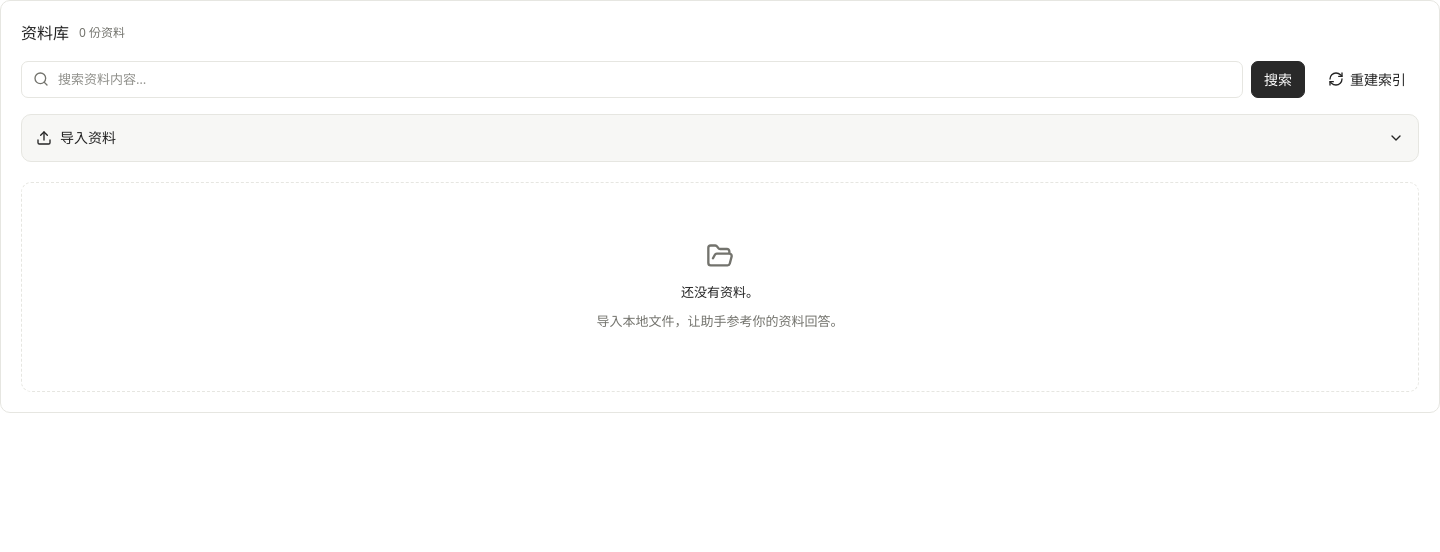
Test: MaterialsLibrary › imports from a path text field
expect the text "还没有资料。" is shown: met, box [681,282,759,303]
Click the heading "导入资料" at [88, 137], box [36,128,1404,147]
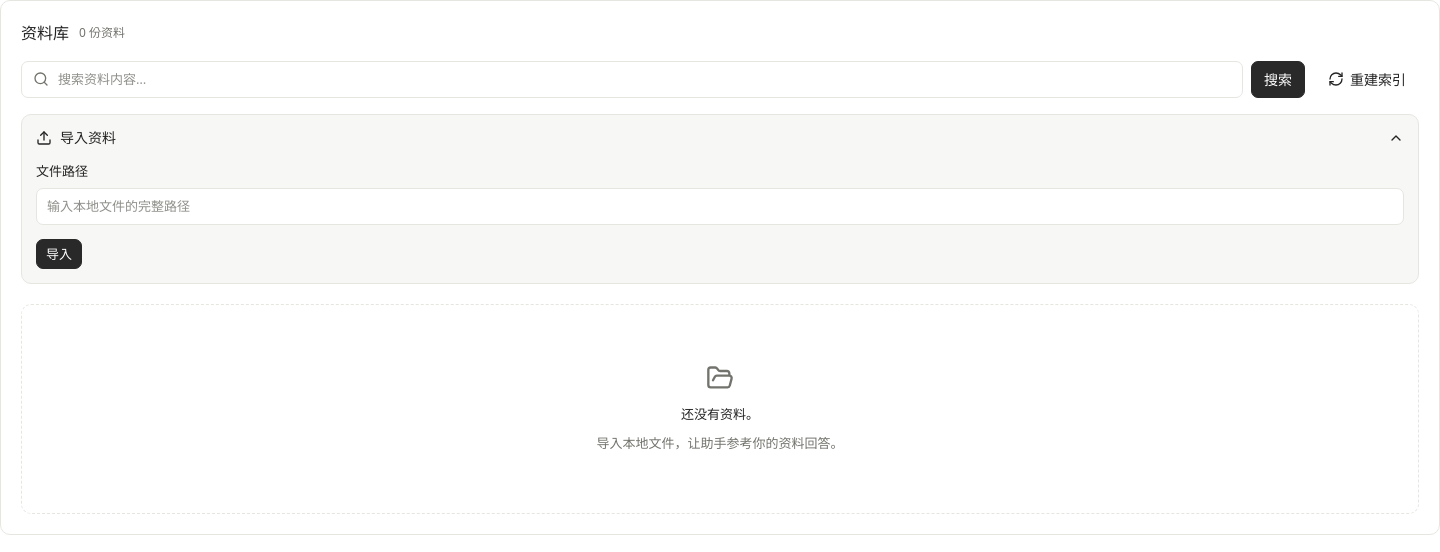
Type "E:/docs/resume.md" into the field labelled "文件路径" at [720, 206], box [36,188,1404,225]
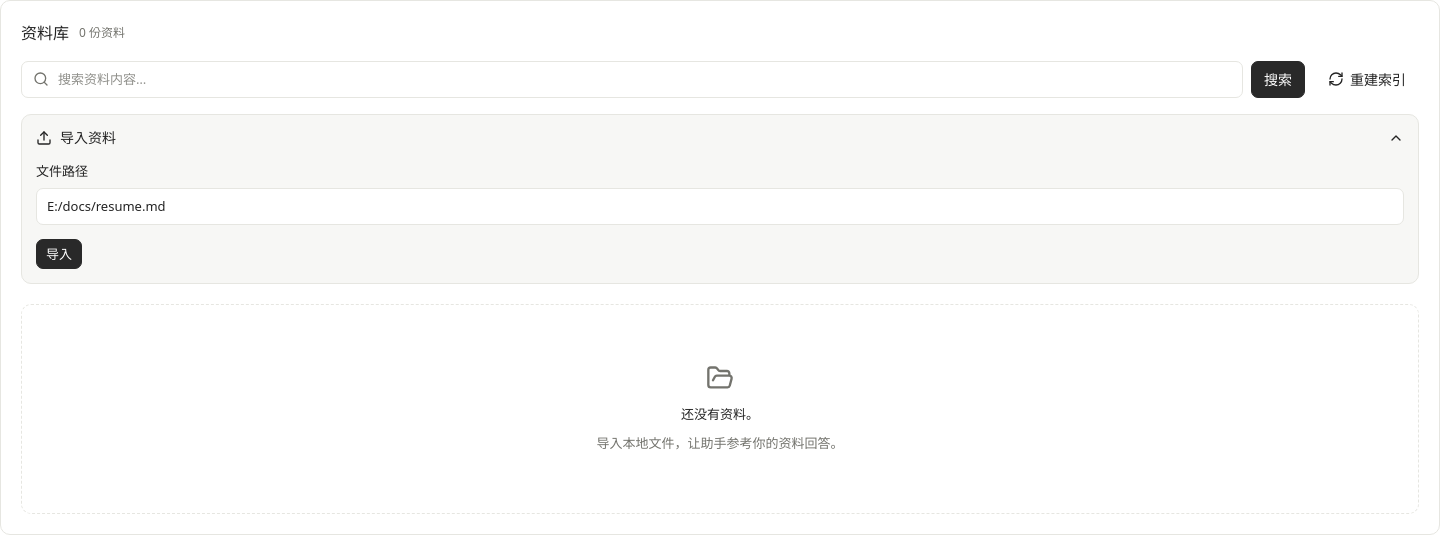
Click the button "导入" at [59, 254], box [36,239,82,269]
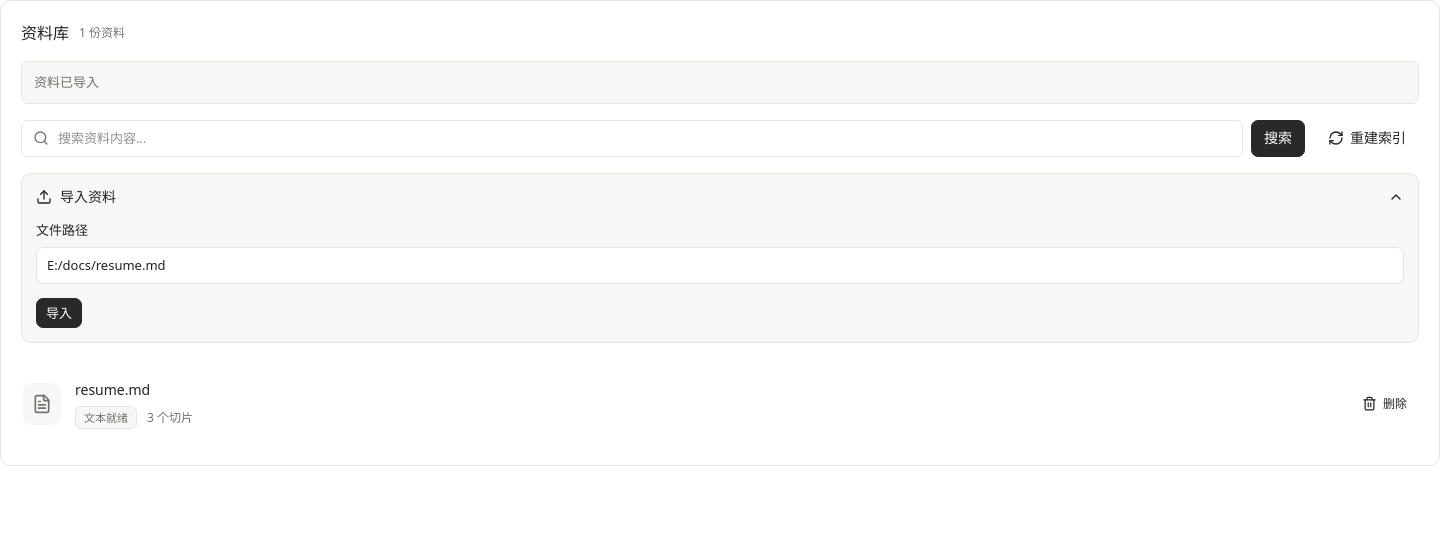
expect the heading "resume.md" is shown: met, box [75,380,150,399]
